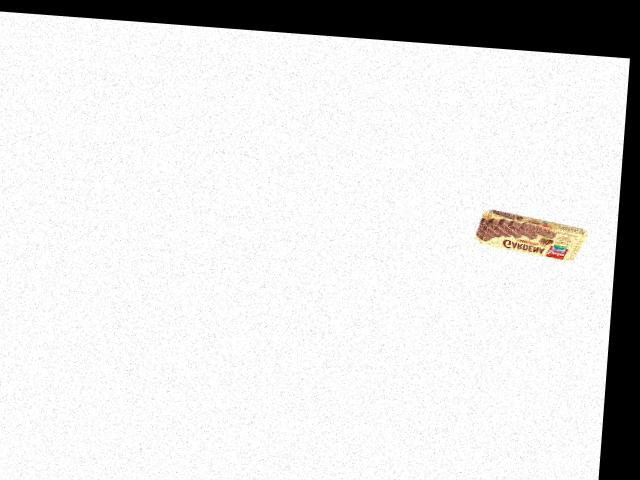chocolate: (467, 212, 593, 264)
